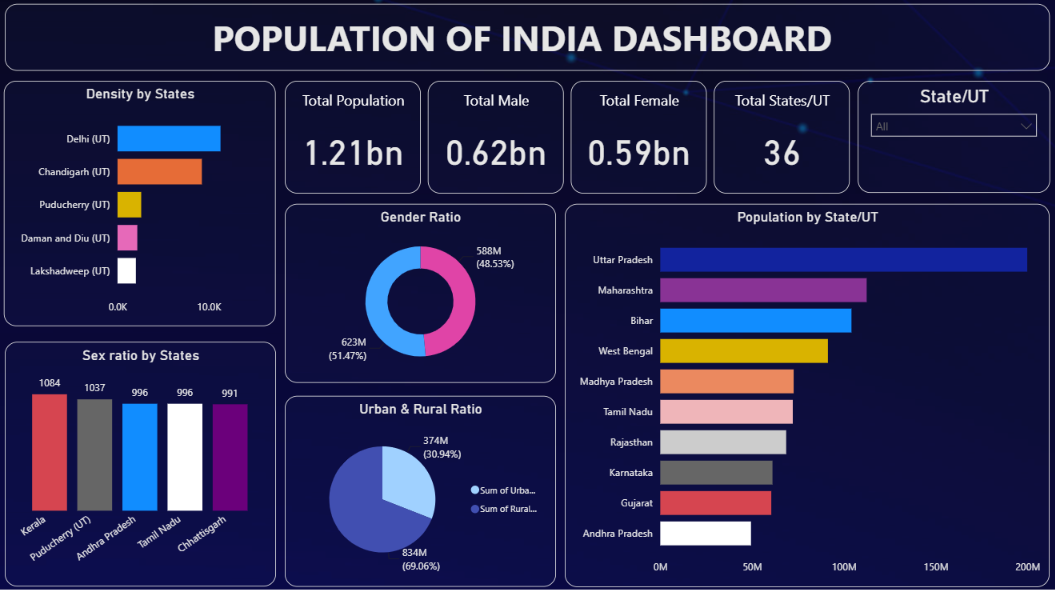

This screenshot's page, from the dashboard's own definition file:
{"tool":"powerbi","page":{"name":"Page 1","canvas":[1280,720],"ordinal":0},"visuals":[{"type":"barChart","title":"Population by State/UT","fields":{"Category":["Population of India.State/UT"],"Y":["Sum(Population of India.Population[50])"]},"box":[685.3,249.5,585.1,462.1],"z":0},{"type":"donutChart","title":"Gender Ratio","fields":{"Y":["Sum(Population of India.Female)","Sum(Population of India.Male)"]},"box":[347.5,249.5,326.9,216],"z":1000},{"type":"pieChart","title":"Urban & Rural Ratio","fields":{"Y":["Sum(Population of India.Urban[51])","Sum(Population of India.Rural[51])"]},"box":[347.5,481.2,326.9,230.4],"z":2000},{"type":"columnChart","title":"Sex ratio by States","fields":{"Category":["Population of India.State/UT"],"Y":["Sum(Population of India.Sex ratio)"]},"box":[9.7,416,326.9,295.6],"z":3000},{"type":"barChart","title":"Density by States","fields":{"Category":["Population of India.State/UT"],"Y":["Sum(Population of India.Density (per km2))"]},"box":[8.2,101.5,328,296.4],"z":4000},{"type":"textbox","box":[9.7,8.4,1260.7,80.8],"z":5000},{"type":"card","fields":{"Values":["Sum(Population of India.Population[50])"]},"box":[347.5,101.3,164.1,136.3],"z":6000},{"type":"card","fields":{"Values":["Sum(Population of India.Male)"]},"box":[520,101.3,164.1,136.3],"z":7000},{"type":"card","fields":{"Values":["Sum(Population of India.Female)"]},"box":[692.5,101.3,164.1,136.3],"z":8000},{"type":"card","fields":{"Values":["CountNonNull(Population of India.State/UT)"]},"box":[865,101.3,164.1,136.3],"z":9000},{"type":"slicer","title":"State/UT","fields":{"Values":["Population of India.State/UT"]},"box":[1038.7,101.3,231.6,135.1],"z":10000}]}

Visuals, with their boxes in screenshot pixels (x1, y1, x2, y2), scaled from the page's 1280x720 canvas onto the 1055x590 screenshot:
"Population by State/UT" barChart: {"left": 565, "top": 204, "right": 1047, "bottom": 583}
"Gender Ratio" donutChart: {"left": 286, "top": 204, "right": 556, "bottom": 381}
"Urban & Rural Ratio" pieChart: {"left": 286, "top": 394, "right": 556, "bottom": 583}
"Sex ratio by States" columnChart: {"left": 8, "top": 341, "right": 277, "bottom": 583}
"Density by States" barChart: {"left": 7, "top": 83, "right": 277, "bottom": 326}
textbox: {"left": 8, "top": 7, "right": 1047, "bottom": 73}
card - Sum(Population of India.Population[50]): {"left": 286, "top": 83, "right": 422, "bottom": 195}
card - Sum(Population of India.Male): {"left": 429, "top": 83, "right": 564, "bottom": 195}
card - Sum(Population of India.Female): {"left": 571, "top": 83, "right": 706, "bottom": 195}
card - CountNonNull(Population of India.State/UT): {"left": 713, "top": 83, "right": 848, "bottom": 195}
"State/UT" slicer: {"left": 856, "top": 83, "right": 1047, "bottom": 194}
